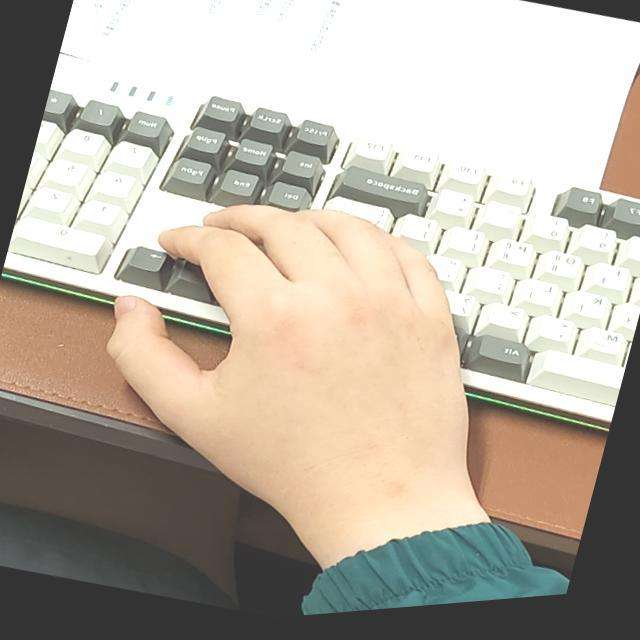keyboard-with-hands: (2, 51, 640, 425)
